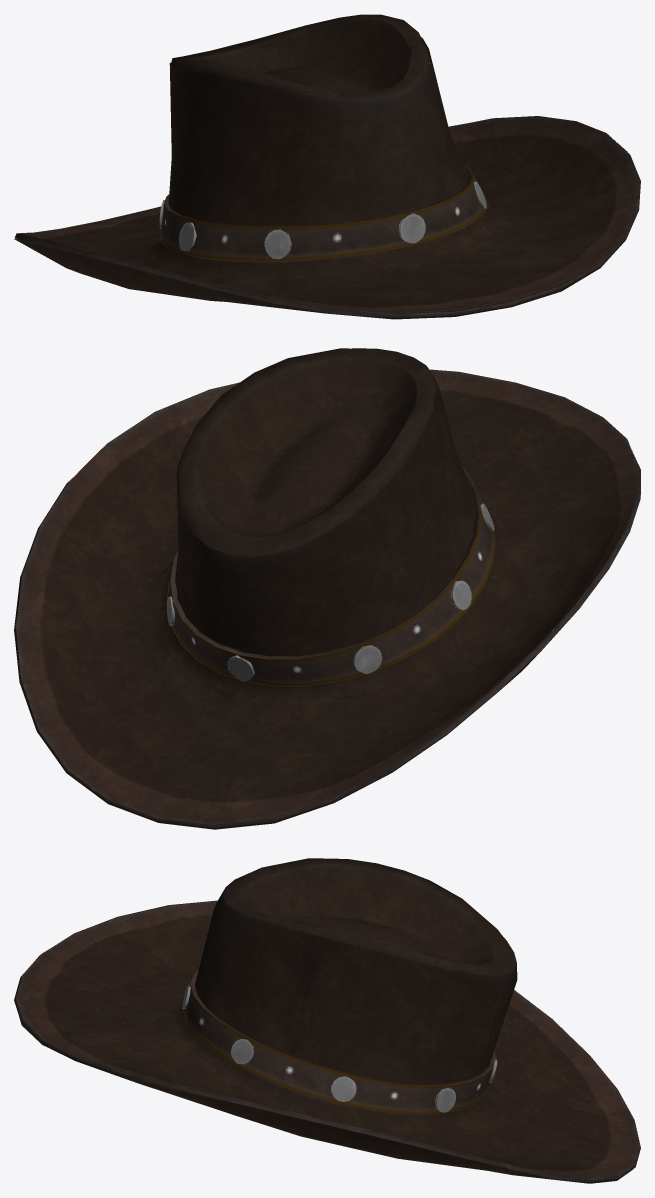
File: browncowboy.glb
3 renders of one model, top to bottom at view 1: azimuth 30°, elevation 25°; view 2: azimuth 150°, elevation 25°; view 3: azimuth 270°, elevation 25°, orthographic. The views are drawn at different scales.
Visible parts, largest first — view 1: Object_2; view 2: Object_2; view 3: Object_2.
Boxes of the visible parts, x1,y1,x2,y2 form: Object_2: (14,14,640,319); Object_2: (14,348,640,829); Object_2: (14,858,640,1183).
Bounding box in the file's own units: 9.01 × 5.03 × 11.06.
Materials: 1 (1 with a texture image).
